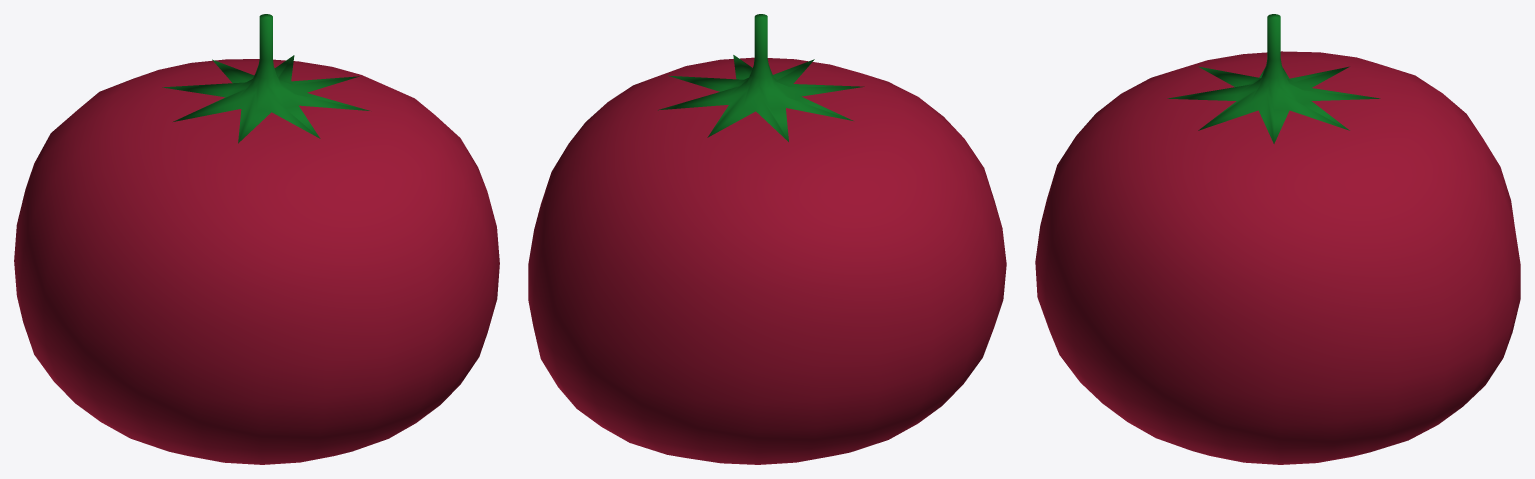
File: Tomato.fbx
3 views of the same model, side by side, from view 1: azimuth 30°, elevation 25°; view 2: azimuth 150°, elevation 25°; view 3: azimuth 270°, elevation 25° (orthographic).
Visible parts, largest first — view 1: Tomato, Cylinder.005; view 2: Tomato, Cylinder.005; view 3: Tomato, Cylinder.005.
Part boxes in pixels (x1,y1,x2,y2): Tomato: (14,59,499,464); Cylinder.005: (162,14,369,143); Tomato: (528,57,1006,464); Cylinder.005: (658,14,864,141); Tomato: (1035,51,1520,464); Cylinder.005: (1167,14,1380,143).
Bounding box in the file's own units: 171 × 157 × 172.
